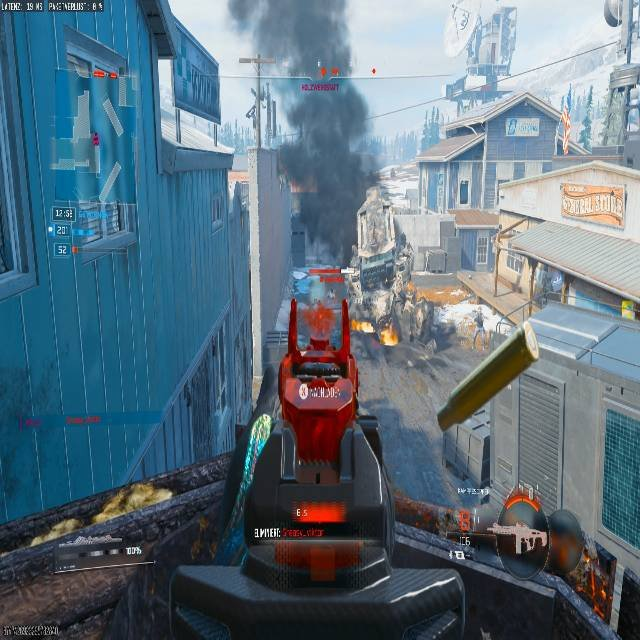head: (547, 510, 586, 572)
player: (471, 308, 487, 351), (328, 287, 335, 302)
